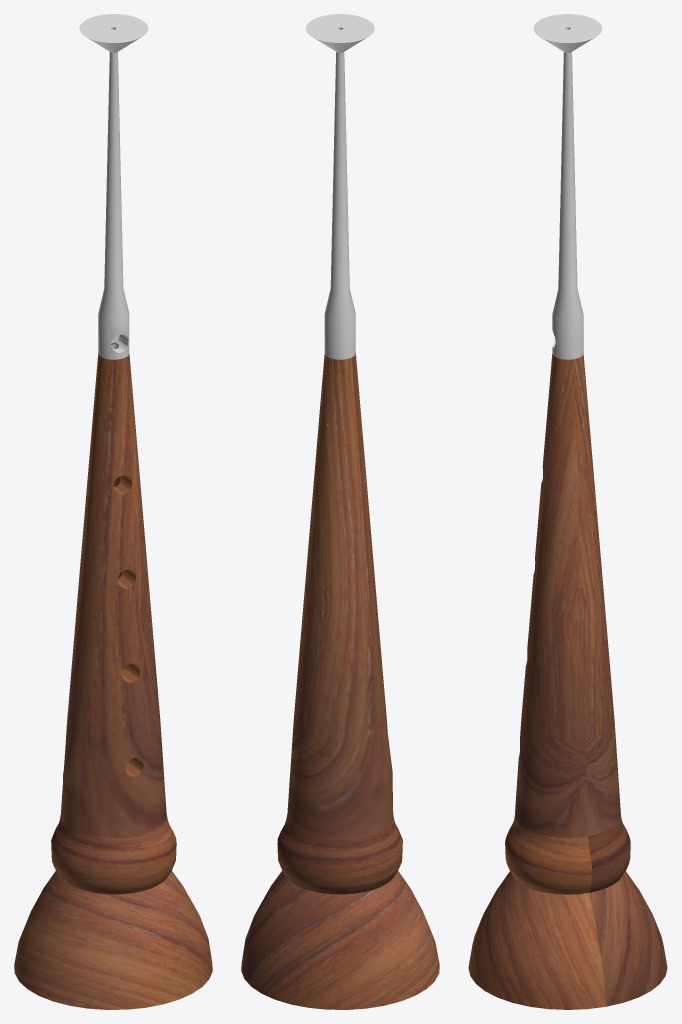
File: sulawesi_puikpuik.glb
The picture shows the model from 3 angles, left to right: view 1: azimuth 30°, elevation 25°; view 2: azimuth 150°, elevation 25°; view 3: azimuth 270°, elevation 25°; orthographic projection.
Parts seen in each view (by area): view 1: Alat Musik; view 2: Alat Musik; view 3: Alat Musik.
Part boxes in pixels (x1,y1,x2,y2): Alat Musik: [14, 14, 212, 1009]; Alat Musik: [241, 14, 439, 1009]; Alat Musik: [468, 14, 667, 1009].
Bounding box in the file's own units: 9.88 × 51.44 × 9.88.
2 materials, 1 textured.
